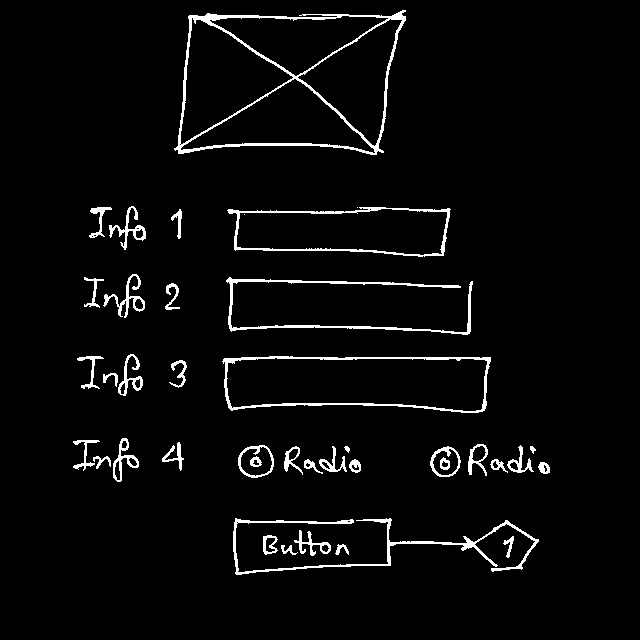button: (231, 509, 404, 576)
image: (177, 4, 401, 152)
input: (223, 354, 492, 410), (219, 278, 480, 332), (234, 200, 448, 258)
linker: (395, 513, 540, 579)
radio: (238, 440, 274, 484), (426, 438, 462, 482)
